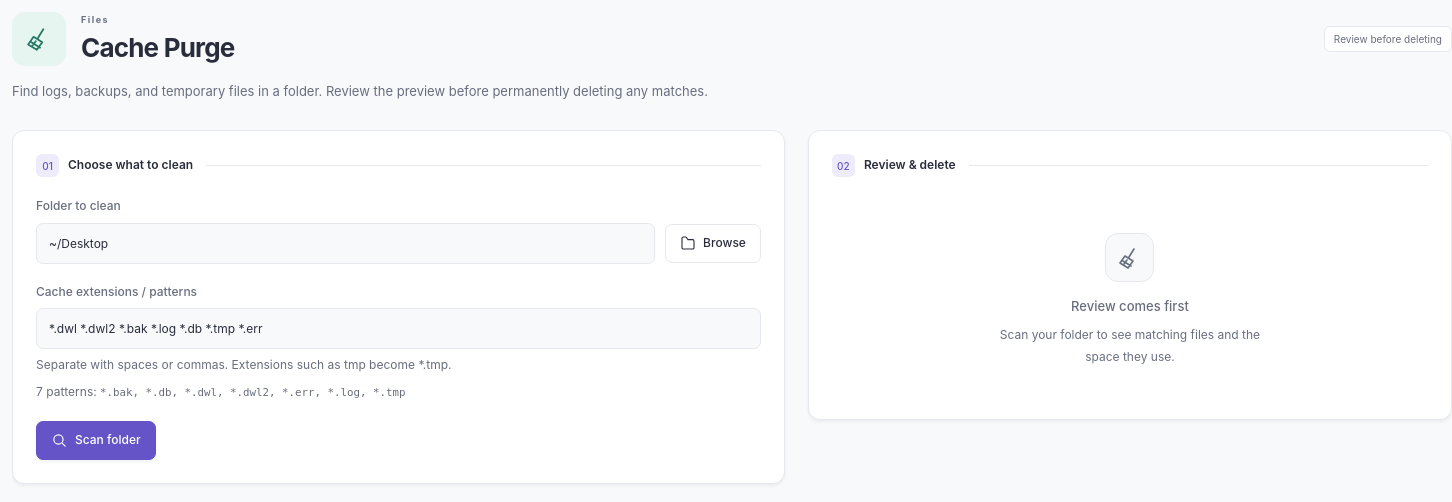
Test: invalidates the delete preview when patterns change
The width and height of the screenshot is (1452, 502).
Click the button "Scan folder" at (96, 440), box [36,421,156,460]
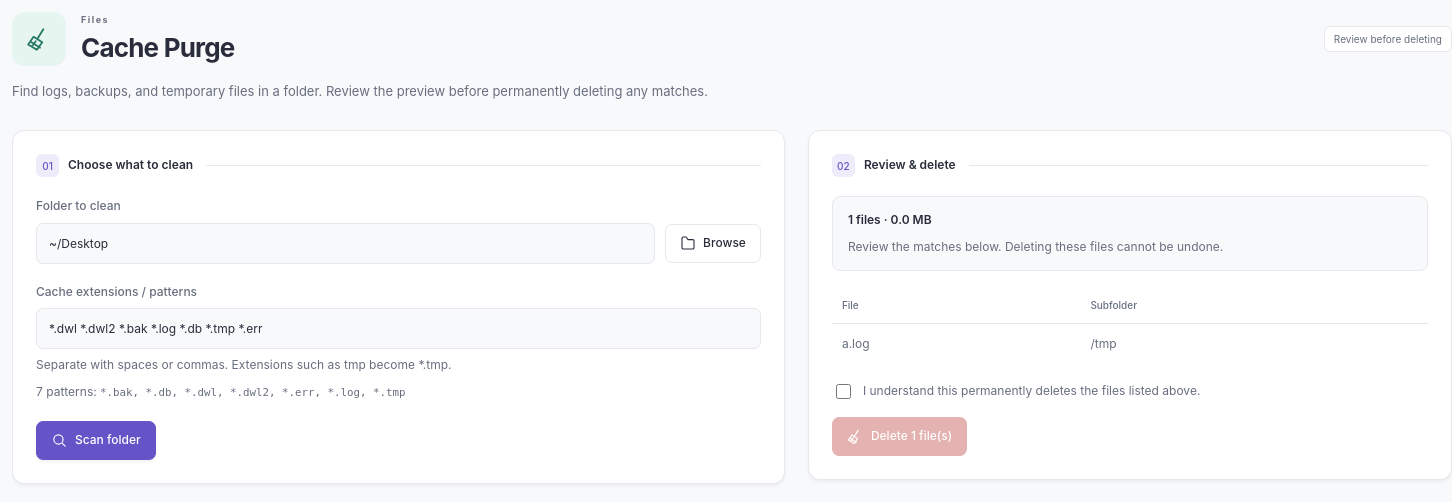
Now the text "a.log" is shown, box [832,324,1080,363]
Click the checkbox at (843, 391), box [836,384,851,399]
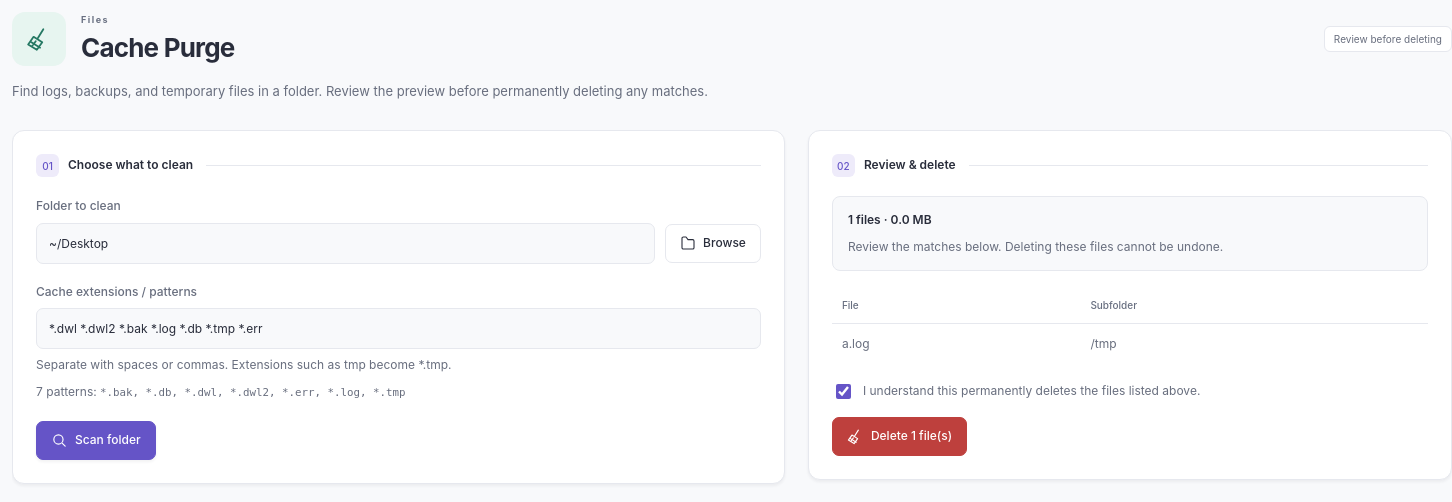
Type "*.tmp" into the field labelled "Cache extensions / patterns" at (398, 329), box [36,308,761,349]
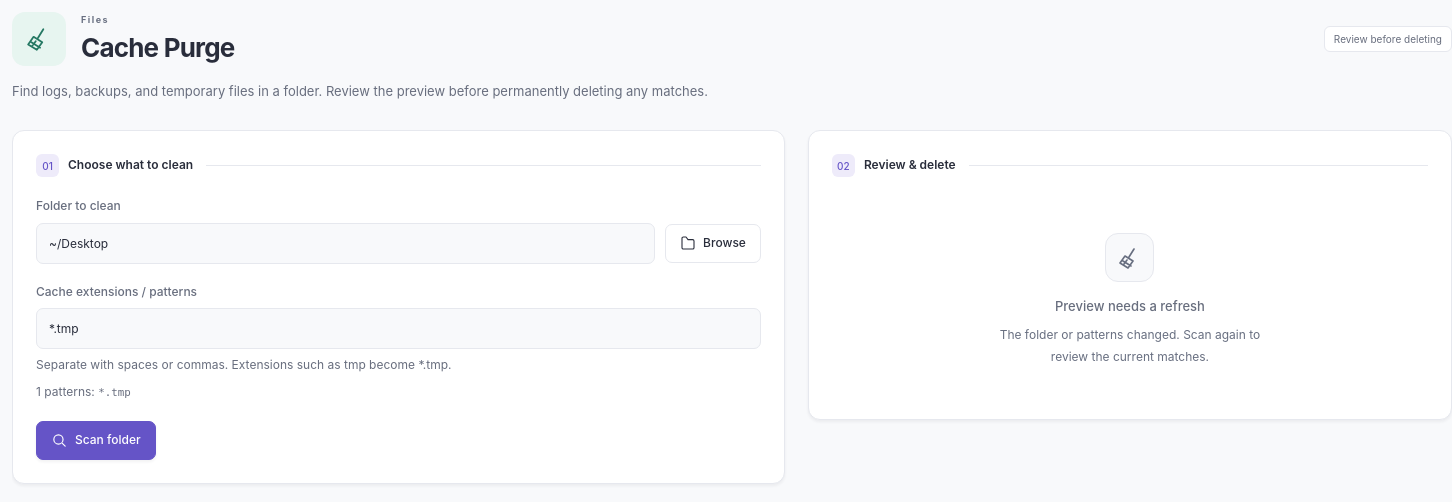
Now the button "Delete 1 file" is gone
Now the text "a.log" is gone
Now the heading "Preview needs a refresh" is shown, box [1055,296,1205,317]
Replace the text in the field labelled "Cache extensions / patterns" with "*.dwl *.dwl2 *.bak *.log *.db *.tmp *.err" at (398, 329), box [36,308,761,349]
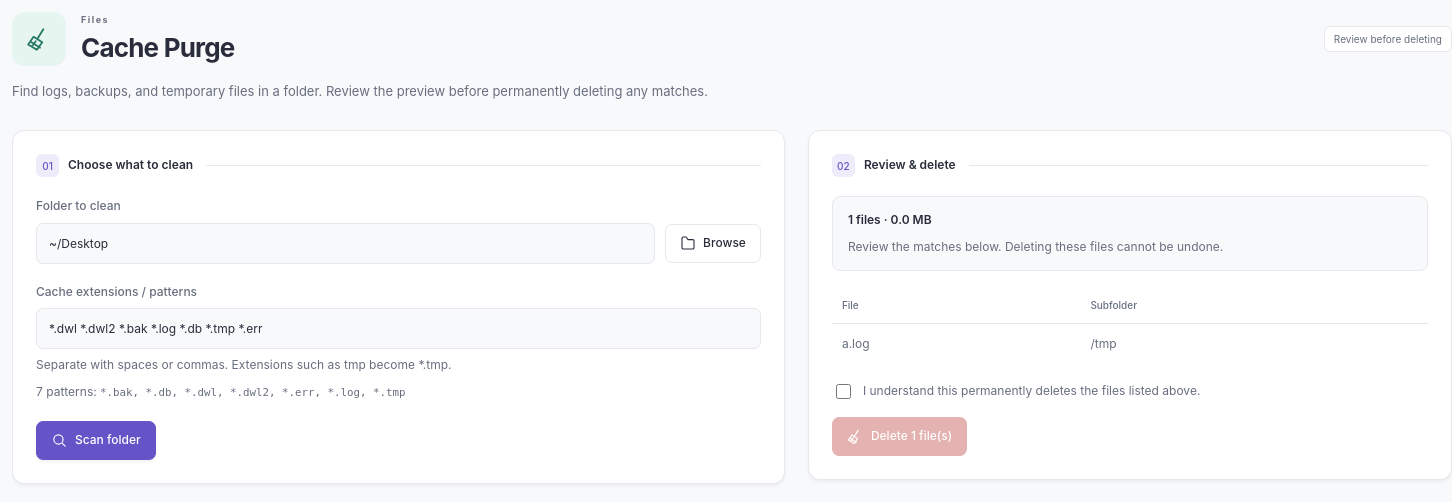
Now the button "Delete 1 file(s)" is disabled, box [832,417,967,456]
